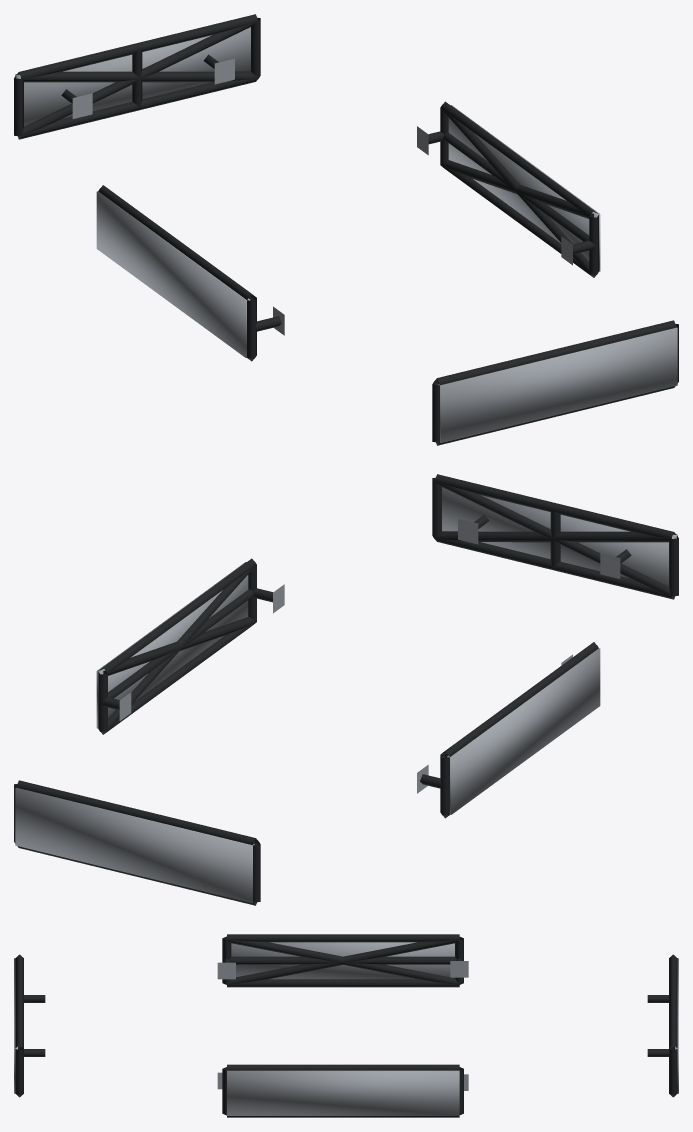
Rendered from kosame_fio_protecao.glb.
3 views of the same model, one above another, from view 1: azimuth 30°, elevation 25°; view 2: azimuth 150°, elevation 25°; view 3: azimuth 270°, elevation 25° (orthographic). The views are drawn at different scales.
Visible parts, largest first — view 1: Protection_front_Level3_Details, Protection_left_Level3_Details, Protection_rear_Level1_Details, Protection_rear_Level3_Details, Protection_right_Level1_Details, Protection_rear_Level2_Details, Protection_right_Level2_Details, Protection_right_Level3_Details, Protection_front_Level1_Details, Protection_left_Level1_Details; view 2: Protection_rear_Level3_Details, Protection_left_Level3_Details, Protection_front_Level1_Details, Protection_front_Level3_Details, Protection_right_Level1_Details, Protection_front_Level2_Details, Protection_right_Level2_Details, Protection_right_Level3_Details, Protection_rear_Level1_Details, Protection_left_Level1_Details; view 3: Protection_right_Level3_Details, Protection_left_Level1_Details, Protection_left_Level2_Details, Protection_left_Level3_Details, Protection_right_Level1_Details, Protection_rear_Level1_Details, Protection_front_Level1_Details.
Part boxes in pixels (x1,y1,x2,y2): Protection_front_Level3_Details: [438, 327, 677, 443]; Protection_left_Level3_Details: [96, 191, 250, 357]; Protection_rear_Level1_Details: [14, 14, 260, 139]; Protection_rear_Level3_Details: [15, 27, 250, 126]; Protection_right_Level1_Details: [417, 101, 598, 277]; Protection_rear_Level2_Details: [16, 21, 258, 138]; Protection_right_Level2_Details: [440, 108, 597, 277]; Protection_right_Level3_Details: [448, 105, 600, 271]; Protection_front_Level1_Details: [432, 320, 678, 445]; Protection_left_Level1_Details: [98, 185, 284, 361]; Protection_rear_Level3_Details: [15, 787, 254, 903]; Protection_left_Level3_Details: [447, 648, 600, 814]; Protection_front_Level1_Details: [432, 474, 678, 599]; Protection_front_Level3_Details: [442, 487, 677, 586]; Protection_right_Level1_Details: [98, 558, 284, 734]; Protection_front_Level2_Details: [434, 481, 676, 598]; Protection_right_Level2_Details: [99, 565, 256, 734]; Protection_right_Level3_Details: [96, 562, 248, 728]; Protection_rear_Level1_Details: [14, 780, 260, 905]; Protection_left_Level1_Details: [417, 642, 598, 818]; Protection_right_Level3_Details: [227, 1070, 459, 1115]; Protection_left_Level1_Details: [217, 934, 468, 987]; Protection_left_Level2_Details: [226, 936, 459, 984]; Protection_left_Level3_Details: [231, 942, 454, 979]; Protection_right_Level1_Details: [217, 1064, 468, 1117]; Protection_rear_Level1_Details: [647, 954, 677, 1097]; Protection_front_Level1_Details: [15, 954, 45, 1097].
Size of the model in its own units: 1.94 by 0.354 by 4.03.
Materials: 1 (1 with a texture image).
